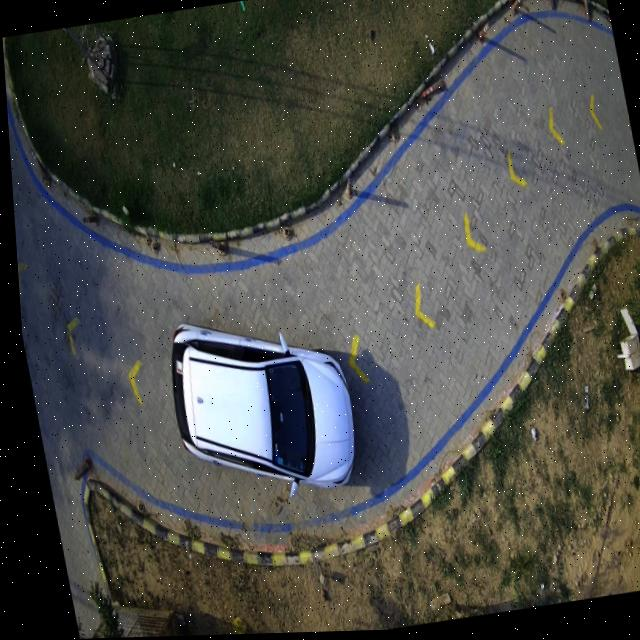car: (166, 324, 348, 490)
